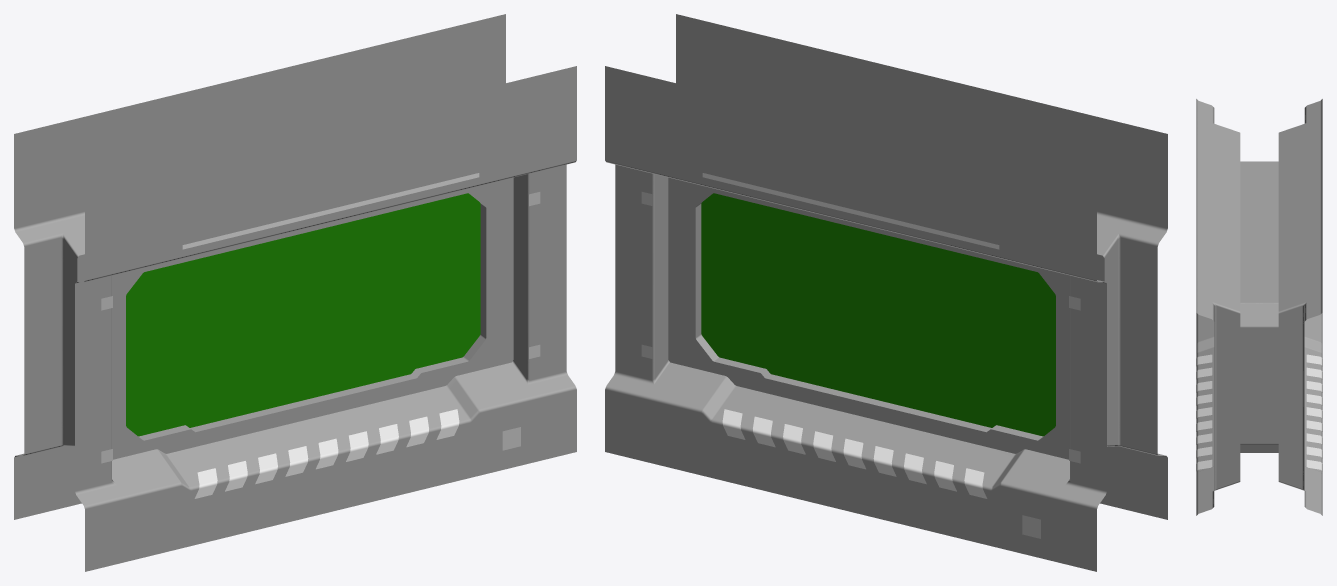
Rendered from Wall_73_Window_4x3.fbx.
3 views of the same model, side by side, from view 1: azimuth 30°, elevation 25°; view 2: azimuth 150°, elevation 25°; view 3: azimuth 270°, elevation 25° (orthographic). The views are drawn at different scales.
Parts seen in each view (by area): view 1: Wall_73_Window_4x3; view 2: Wall_73_Window_4x3; view 3: Wall_73_Window_4x3.
Part boxes in pixels (x1,y1,x2,y2): Wall_73_Window_4x3: [14, 14, 576, 571]; Wall_73_Window_4x3: [605, 14, 1167, 571]; Wall_73_Window_4x3: [1196, 99, 1322, 515].
Bounding box in the file's own units: 4 × 3 × 1.
